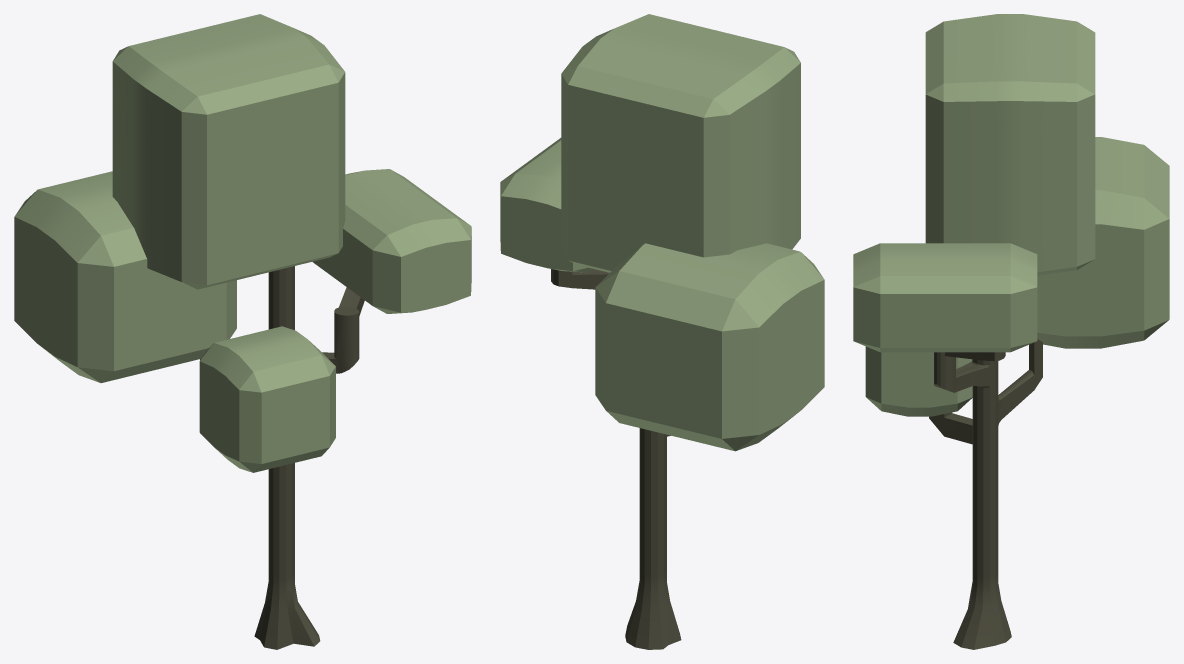
The model's file is Tree_Forest_High_02_v1.fbx.
3 views of the same model, side by side, from view 1: azimuth 30°, elevation 25°; view 2: azimuth 150°, elevation 25°; view 3: azimuth 270°, elevation 25° (orthographic). The views are drawn at different scales.
Parts seen in each view (by area): view 1: Crown_Big1, Crown_Sml3, Crown_Sml2, Crown_Sml1, Bark2; view 2: Crown_Big1, Crown_Sml3, Bark2, Crown_Sml1; view 3: Crown_Big1, Crown_Sml1, Crown_Sml3, Bark2, Crown_Sml2.
Boxes of the visible parts, x1=… form: Crown_Big1: x1=112, y1=14, x2=345, y2=289; Crown_Sml3: x1=14, y1=171, x2=236, y2=382; Crown_Sml2: x1=199, y1=326, x2=335, y2=472; Crown_Sml1: x1=312, y1=169, x2=471, y2=313; Bark2: x1=200, y1=266, x2=364, y2=649; Crown_Big1: x1=561, y1=14, x2=800, y2=272; Crown_Sml3: x1=595, y1=243, x2=824, y2=451; Bark2: x1=551, y1=269, x2=681, y2=649; Crown_Sml1: x1=500, y1=138, x2=593, y2=272; Crown_Big1: x1=925, y1=14, x2=1095, y2=275; Crown_Sml1: x1=853, y1=243, x2=1037, y2=352; Crown_Sml3: x1=1037, y1=137, x2=1169, y2=348; Bark2: x1=929, y1=339, x2=1042, y2=649; Crown_Sml2: x1=865, y1=346, x2=972, y2=416.
Bounding box in the file's own units: 10.85 × 19.02 × 9.58.
